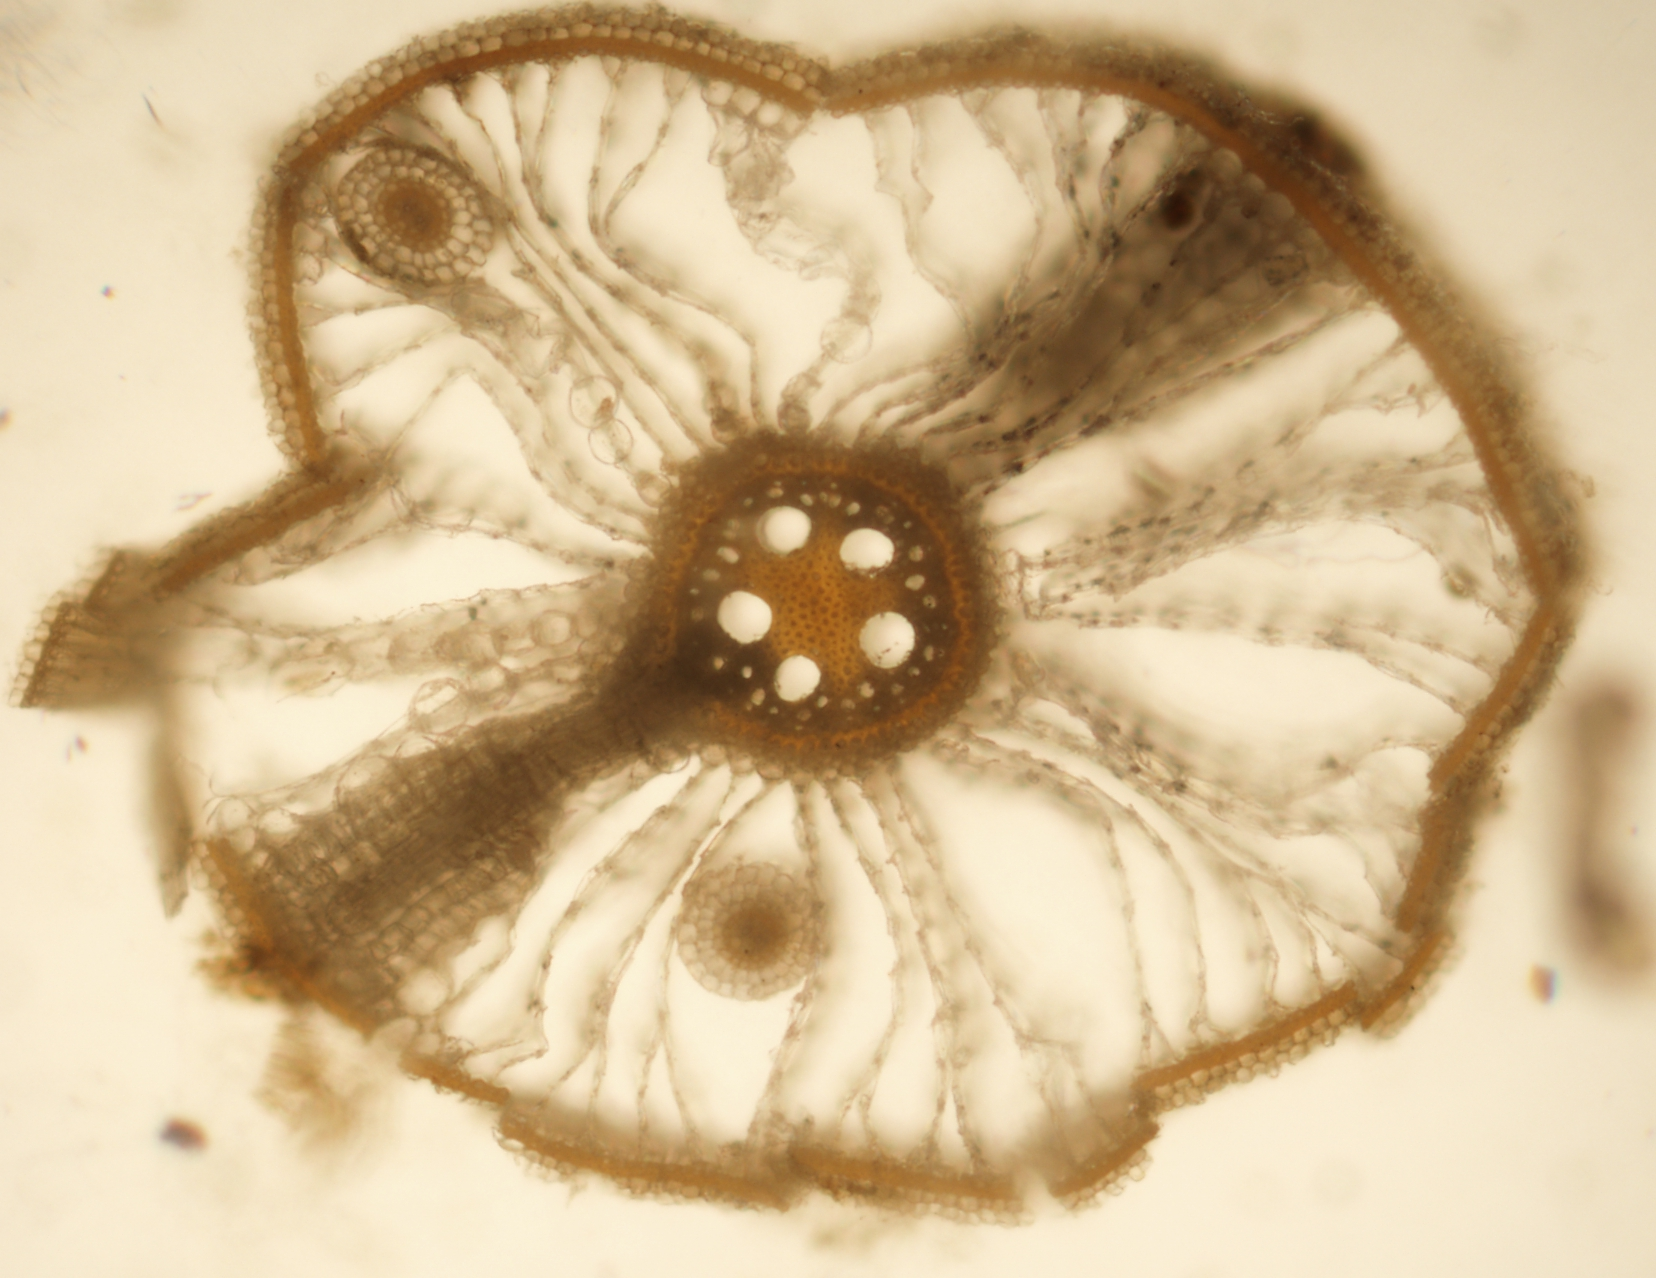lm: (860, 611, 915, 669), (717, 591, 772, 644), (757, 506, 811, 554), (840, 528, 894, 575), (774, 655, 821, 701)
